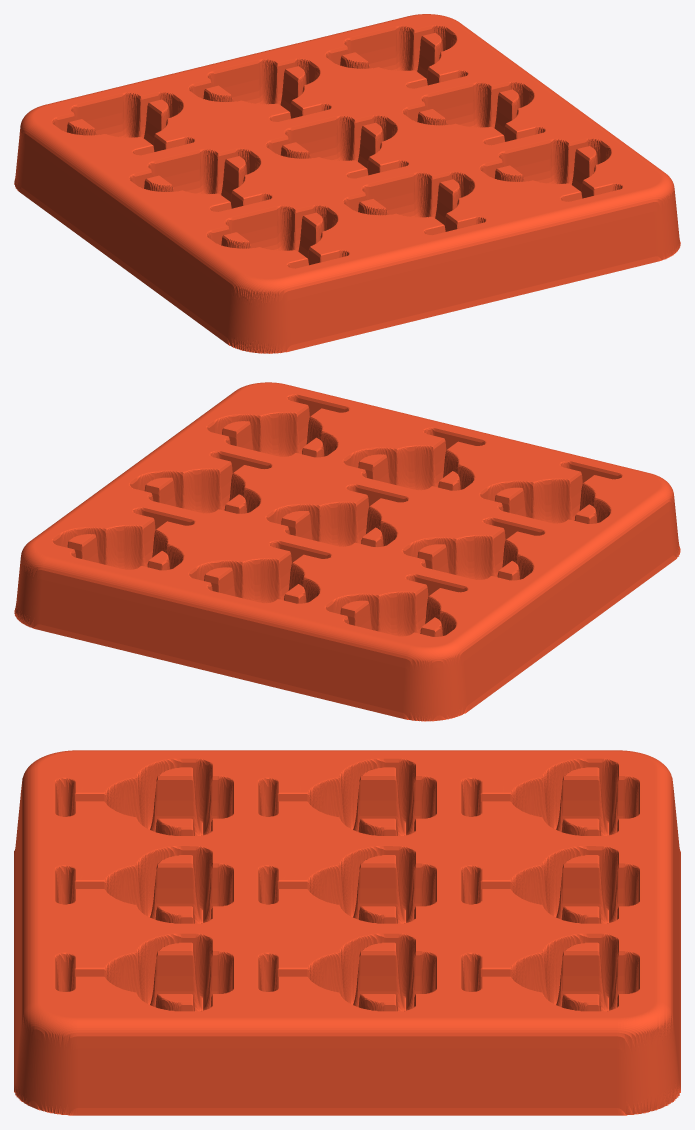
The model's file is mold.glb.
3 views of the same model, one above another, from view 1: azimuth 30°, elevation 25°; view 2: azimuth 150°, elevation 25°; view 3: azimuth 270°, elevation 25° (orthographic). The views are drawn at different scales.
Visible parts, largest first — view 1: geometry_0; view 2: geometry_0; view 3: geometry_0.
Boxes of the visible parts, bbox=[...] form: geometry_0: bbox=[14, 14, 680, 353]; geometry_0: bbox=[14, 382, 680, 721]; geometry_0: bbox=[14, 750, 680, 1115].
Size of the model in its own units: 0.0964 by 0.0136 by 0.0946.
